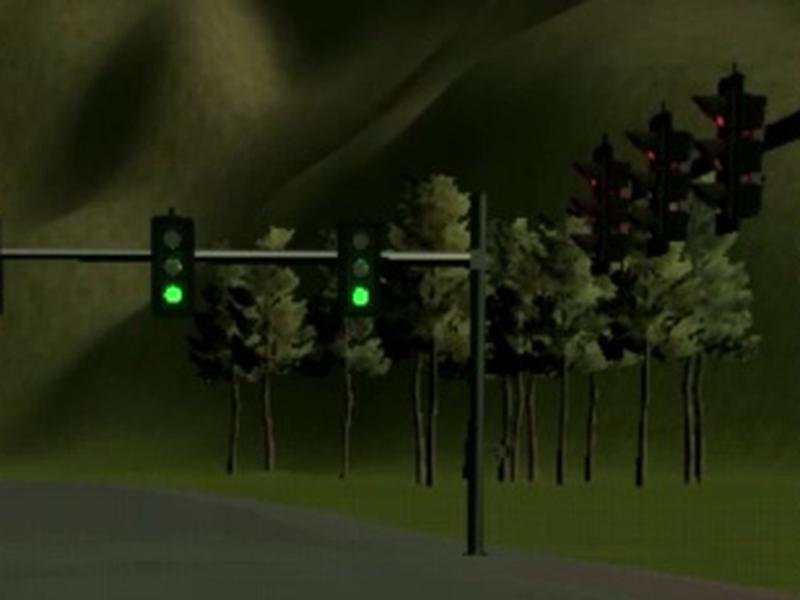Green: (150, 216, 196, 317), (336, 218, 379, 314)
